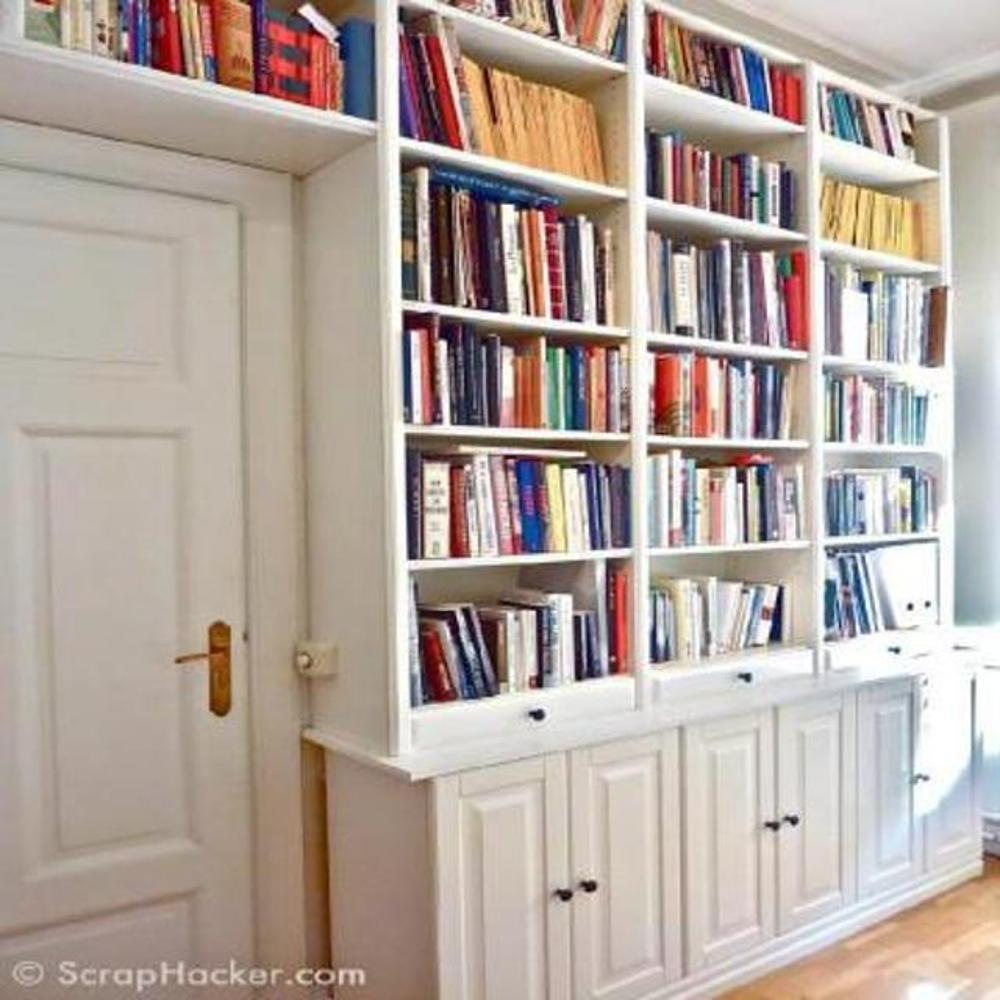lamp: (0, 0, 957, 779)
